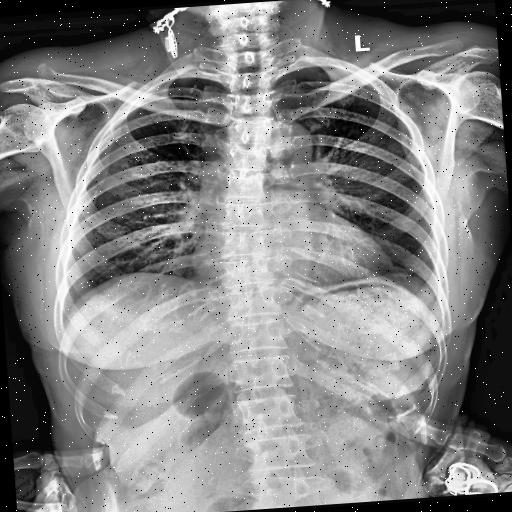0- Aortic enlargement: (254, 120, 316, 182), (258, 118, 316, 182)
3- Cardiomegaly: (189, 228, 398, 296)
